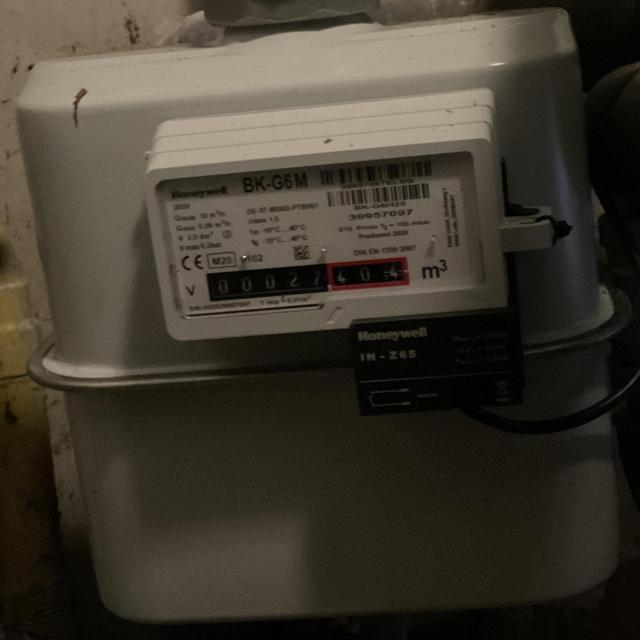gaz_meter: (147, 162, 513, 326)
indication: (205, 255, 412, 303)
